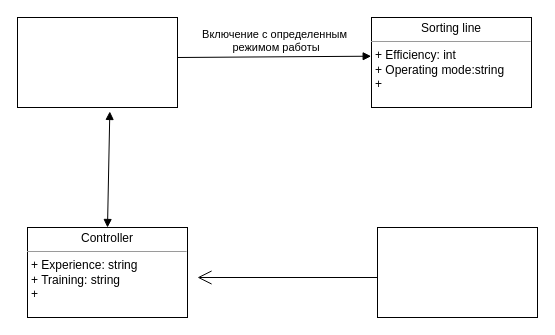
This 555x335 diagram has some shape labels left out. Here are the shapes that lost their labels. From the top down, the box of each, then its label:
(16, 16, 178, 108): Operator + Qualification: string +Work experience: string +Training: string
(376, 226, 538, 318): Garbage + Volume: int + Weight: int + Content: string
